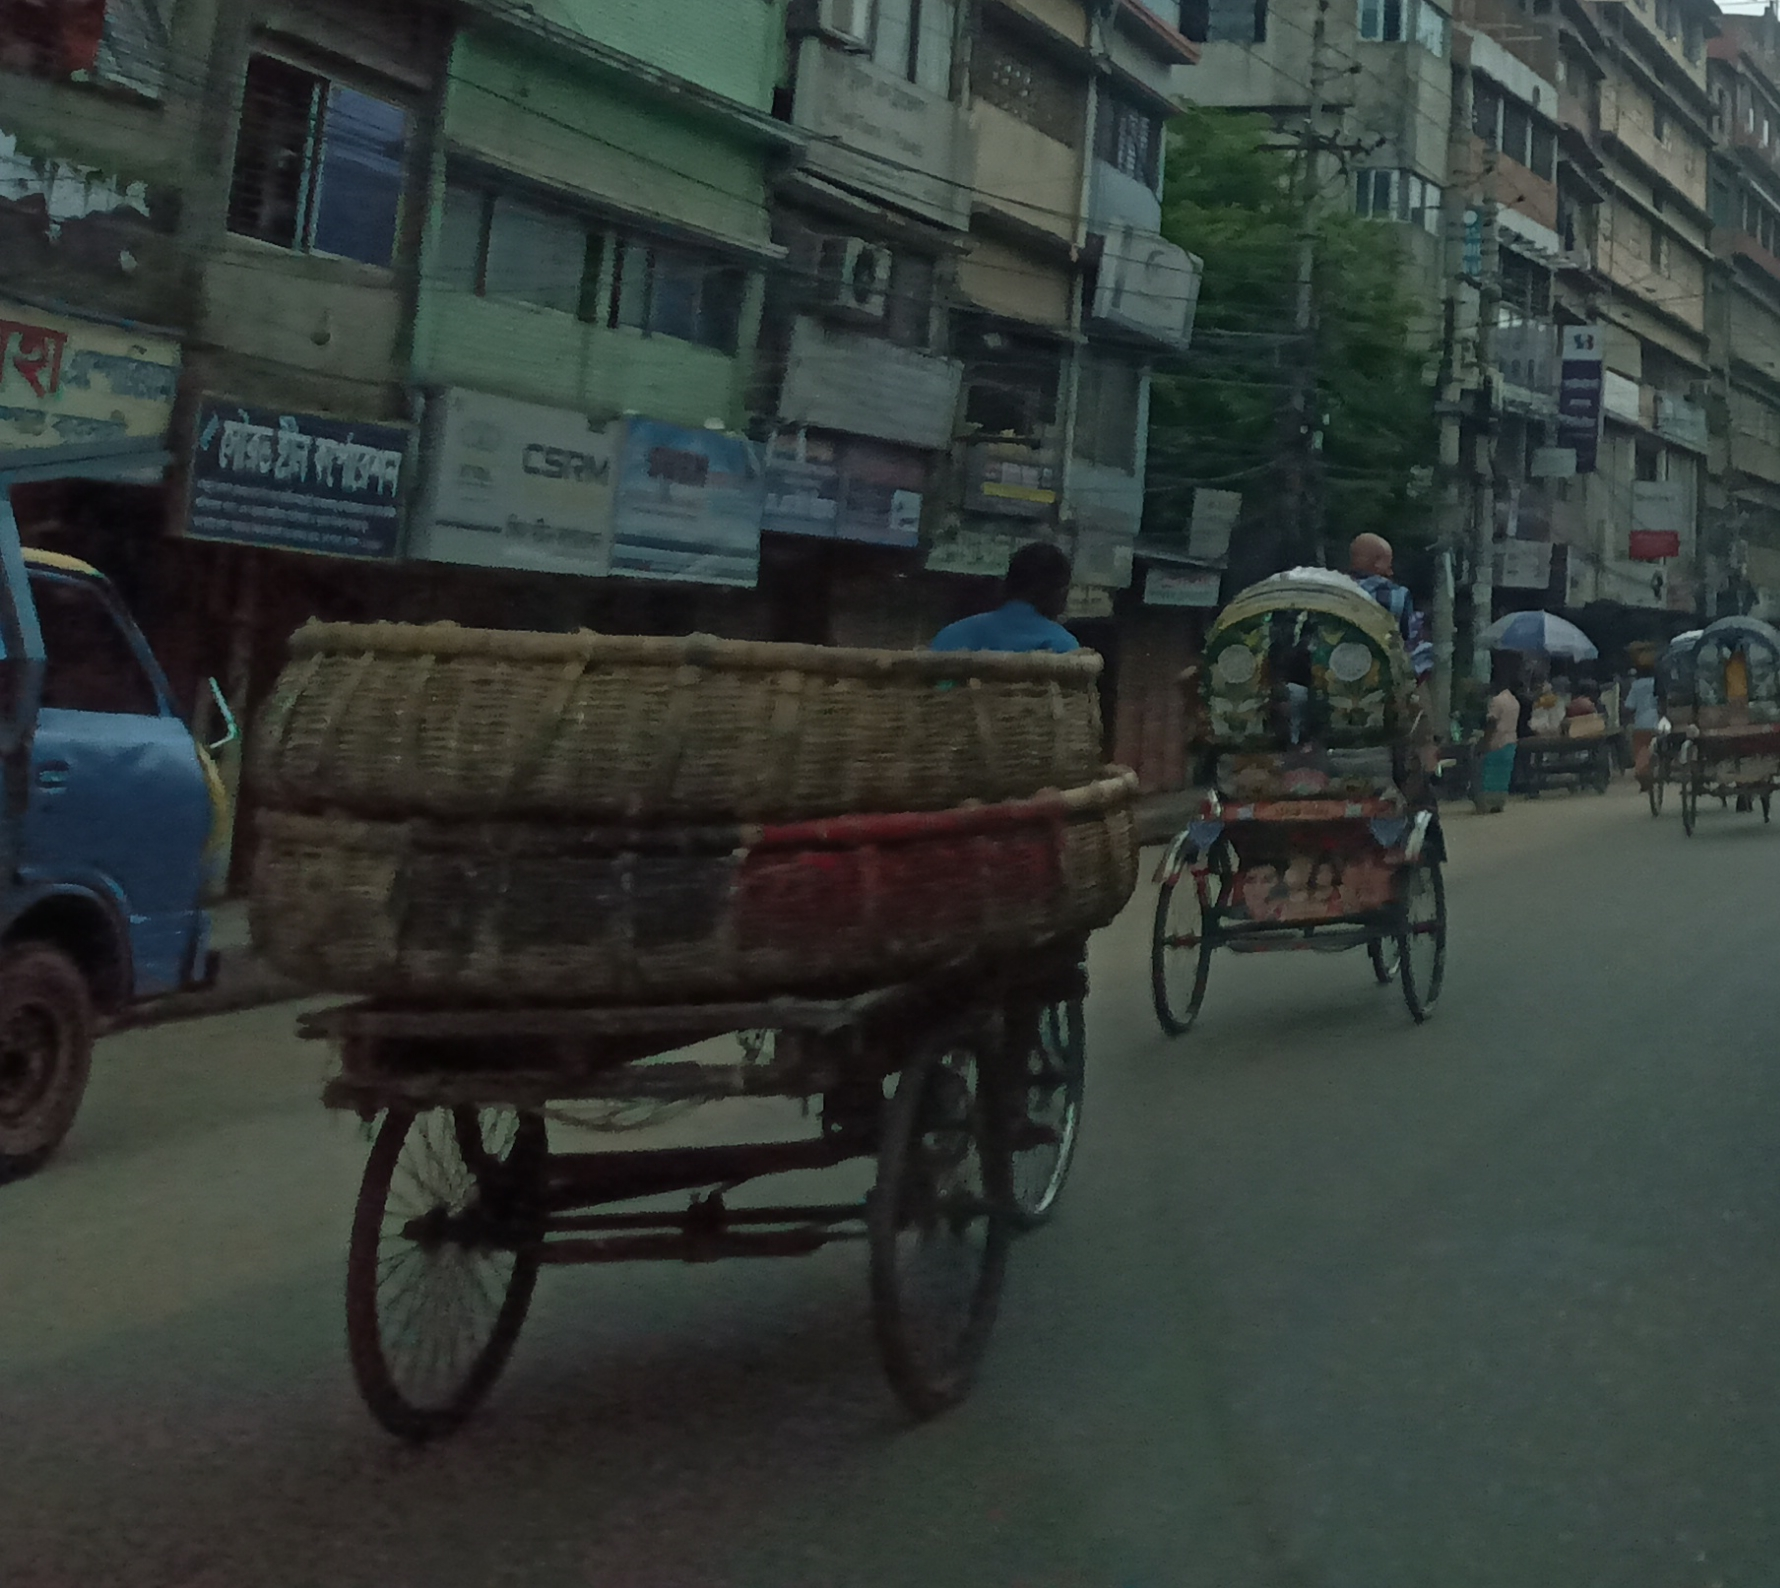rickshaw: (1150, 558, 1467, 1038), (1640, 609, 1780, 848)
truck: (2, 466, 245, 1179)
van: (274, 907, 1113, 1472)
